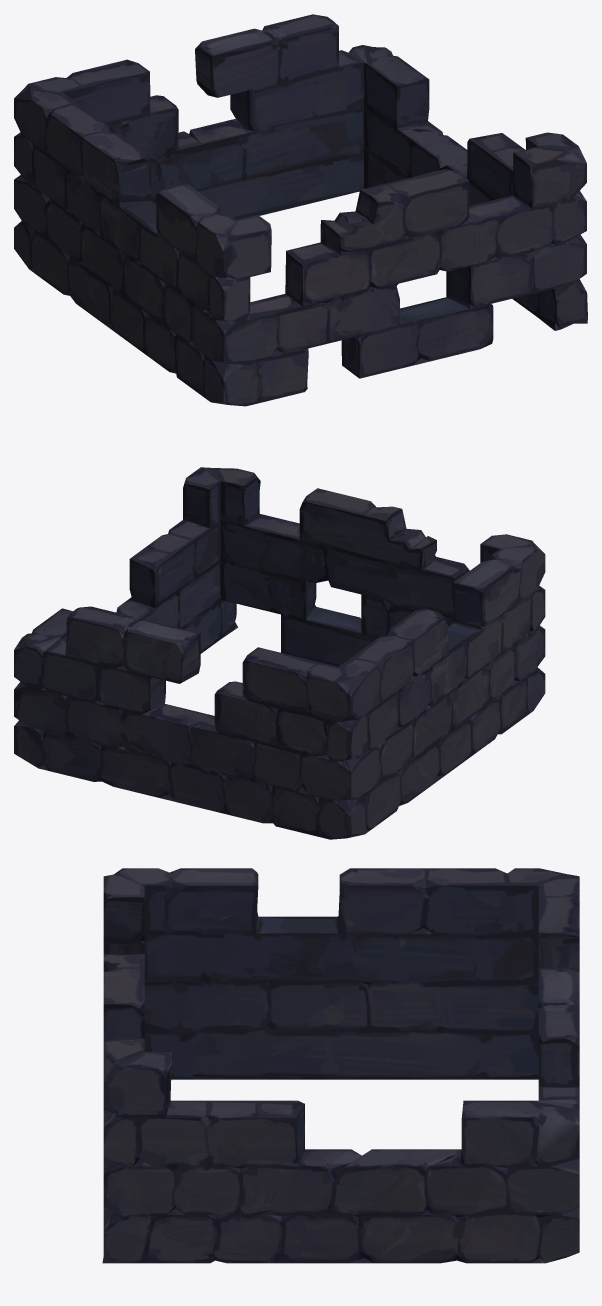
The model's file is Ruins10.fbx.
3 views of the same model, one above another, from view 1: azimuth 30°, elevation 25°; view 2: azimuth 150°, elevation 25°; view 3: azimuth 270°, elevation 25° (orthographic). The views are drawn at different scales.
Visible parts, largest first — view 1: Ruins10; view 2: Ruins10; view 3: Ruins10.
Boxes of the visible parts, bbox=[...] form: Ruins10: bbox=[14, 14, 587, 406]; Ruins10: bbox=[14, 467, 545, 839]; Ruins10: bbox=[102, 868, 579, 1263].
Bounding box in the file's own units: 6.24 × 2.2 × 5.89.
Materials: 2 (2 with a texture image).
